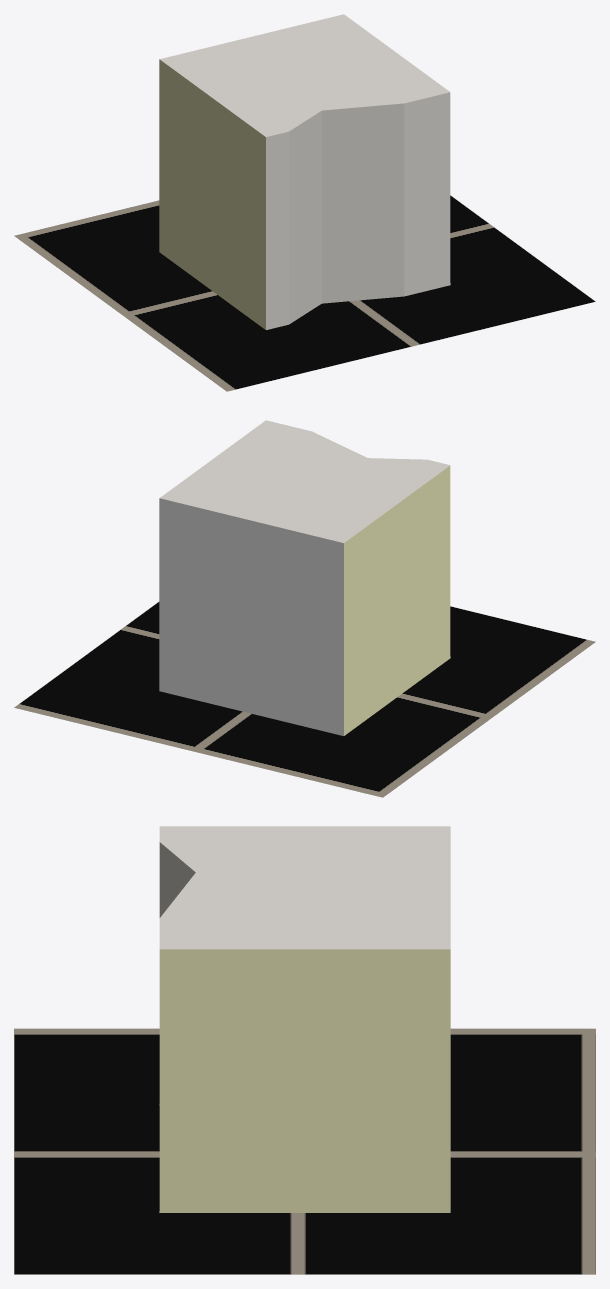
File: Cracked_Straight_1x2_1_Mid.glb
The picture shows the model from 3 angles, top to bottom: view 1: azimuth 30°, elevation 25°; view 2: azimuth 150°, elevation 25°; view 3: azimuth 270°, elevation 25°; orthographic projection. The views are drawn at different scales.
Parts seen in each view (by area): view 1: Cracked_Straight_1x2_1_Mid, Floor; view 2: Cracked_Straight_1x2_1_Mid, Floor; view 3: Cracked_Straight_1x2_1_Mid, Floor.
Boxes of the visible parts, x1,y1,x2,y2 form: Cracked_Straight_1x2_1_Mid: (159,14,450,329); Floor: (14,195,595,391); Cracked_Straight_1x2_1_Mid: (159,420,450,735); Floor: (14,601,595,797); Cracked_Straight_1x2_1_Mid: (159,826,450,1212); Floor: (14,1028,595,1274).
Bounding box in the file's own units: 200 × 100 × 200.
4 materials, 1 textured.
